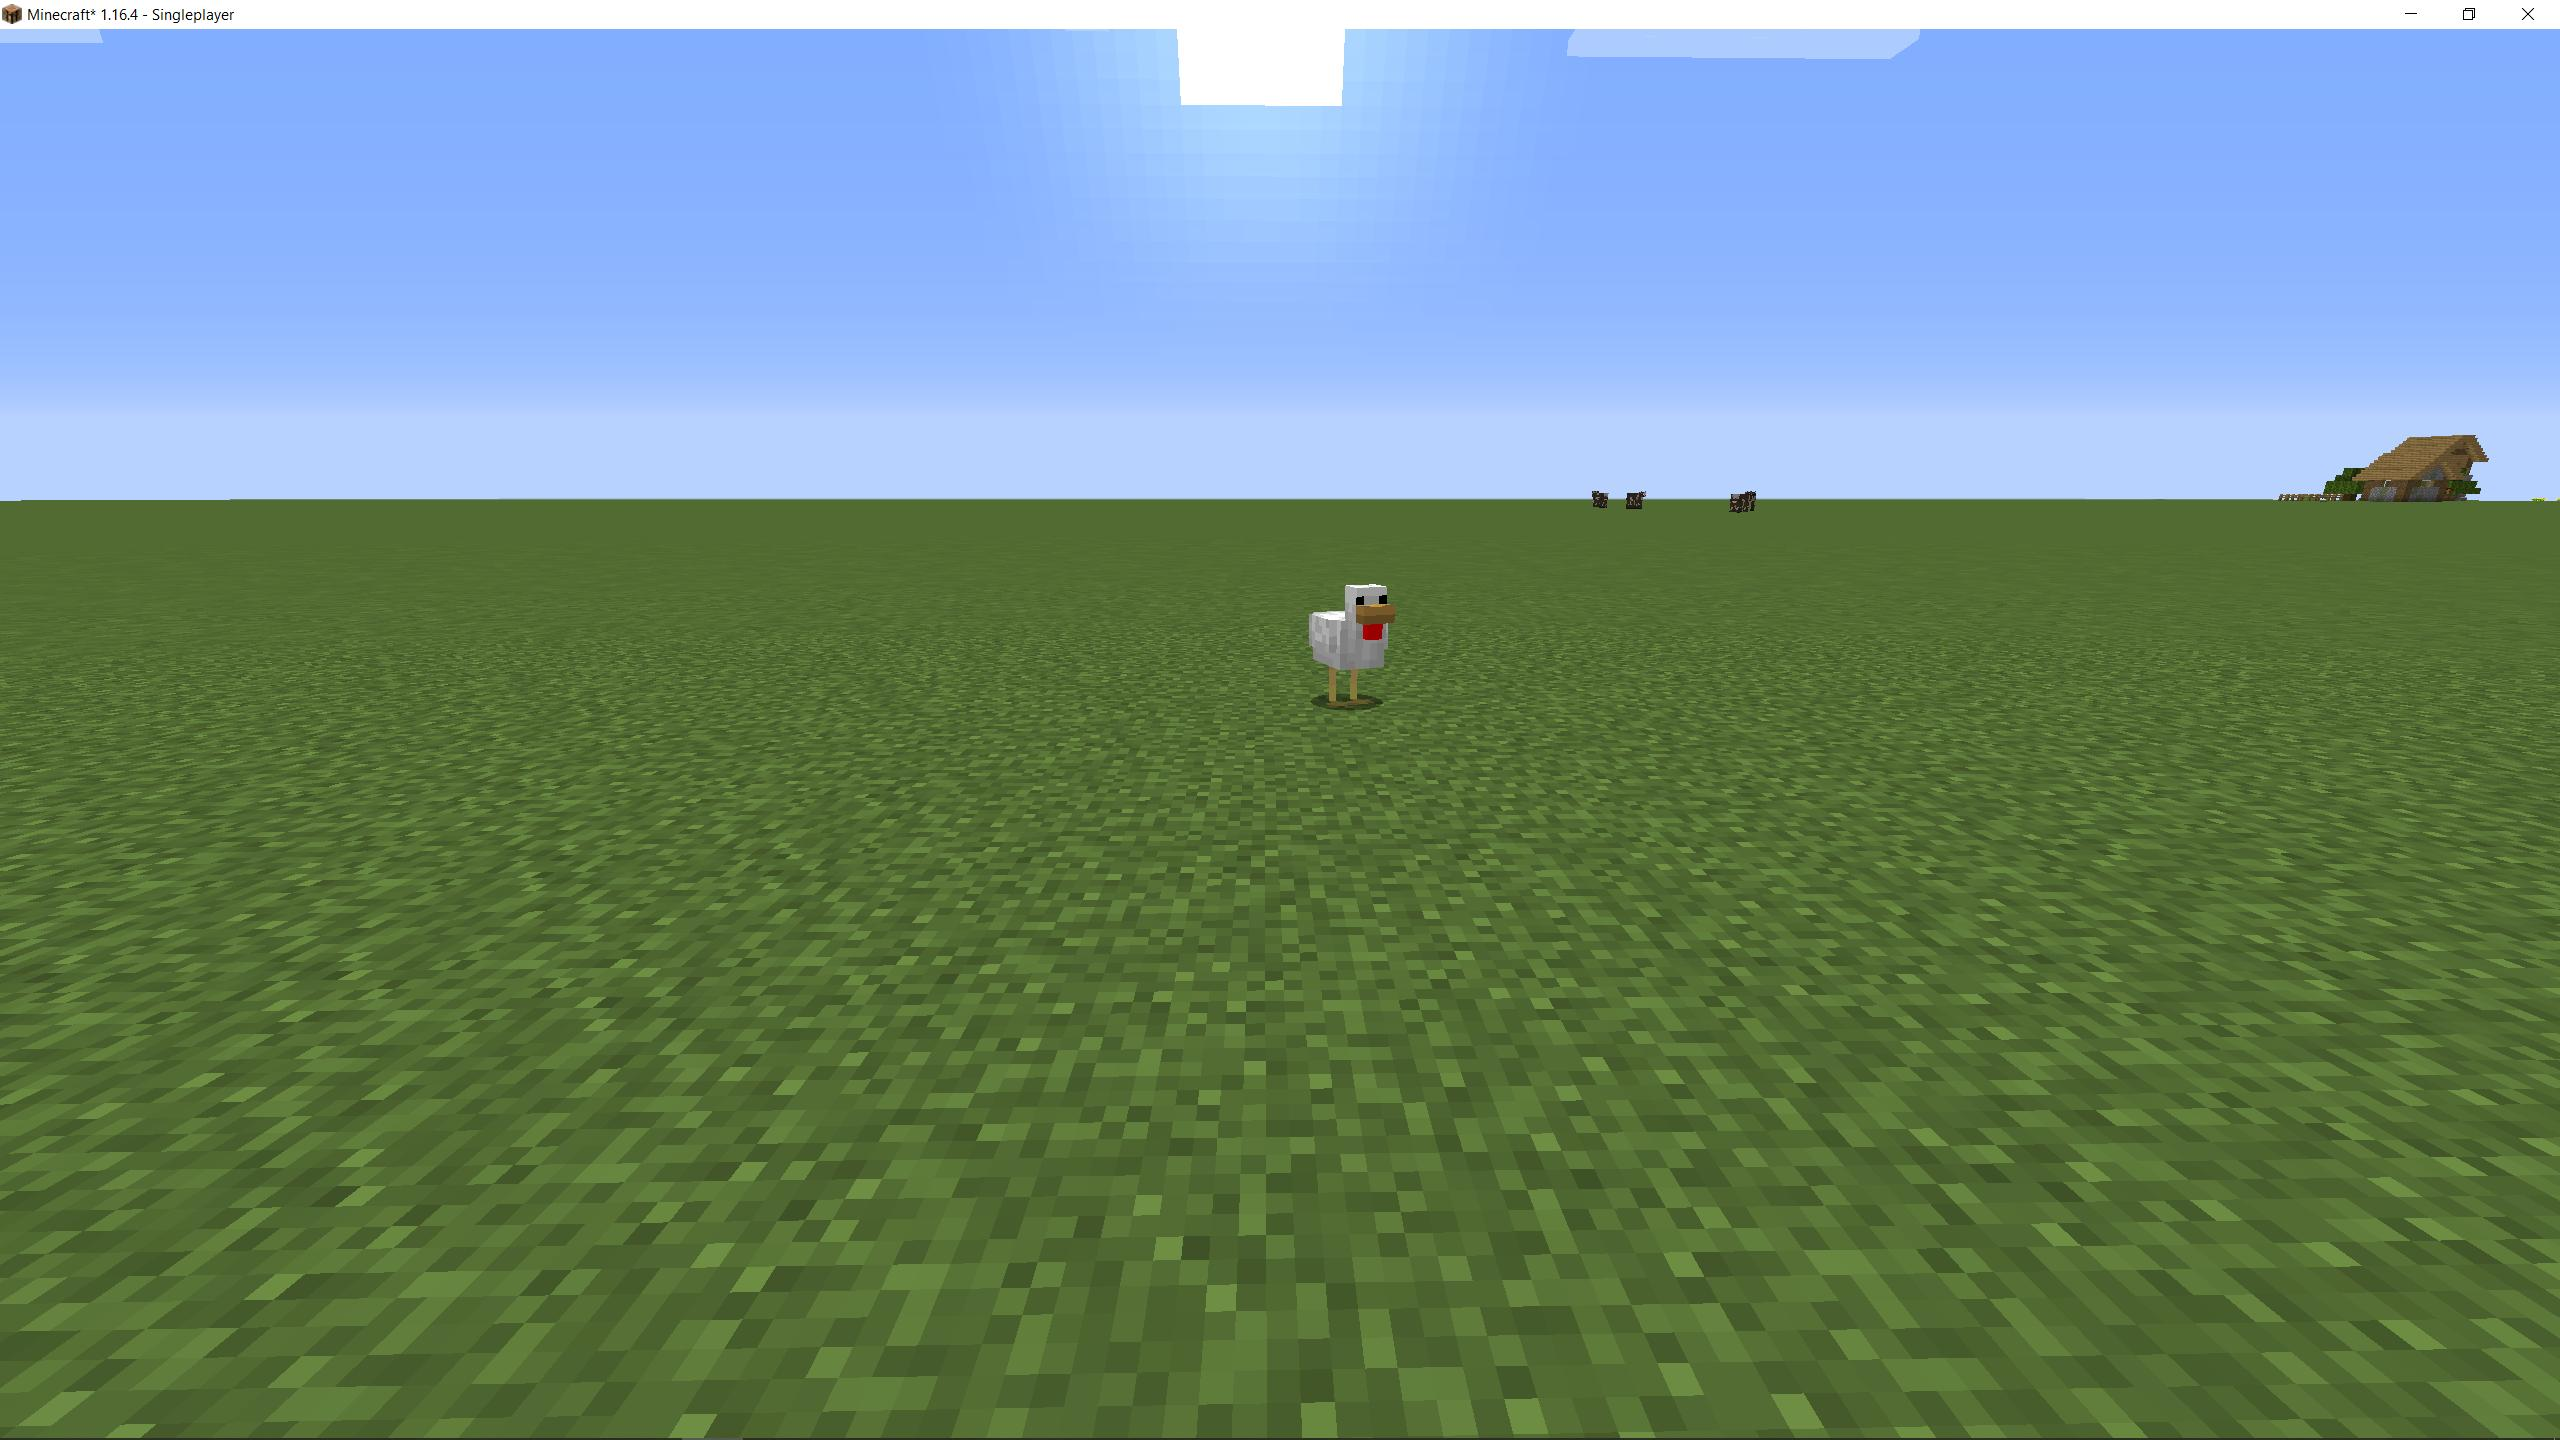chicken: (1305, 573, 1405, 717)
